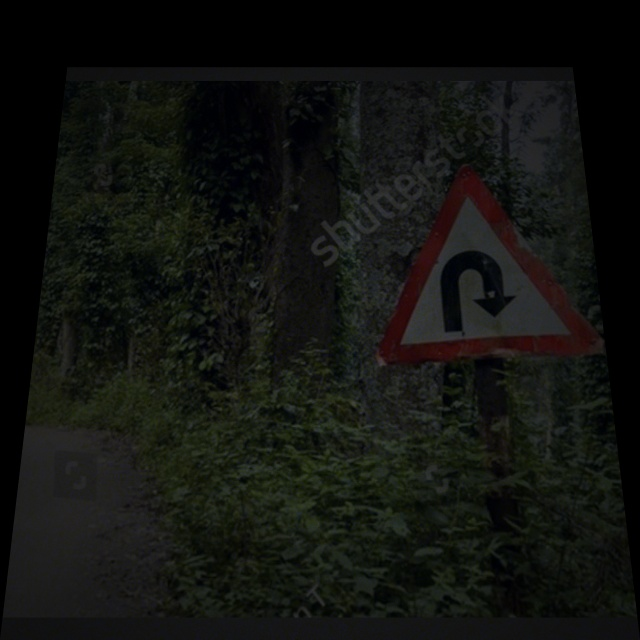Right_Hair_Pin_Bend: (381, 163, 605, 355)
